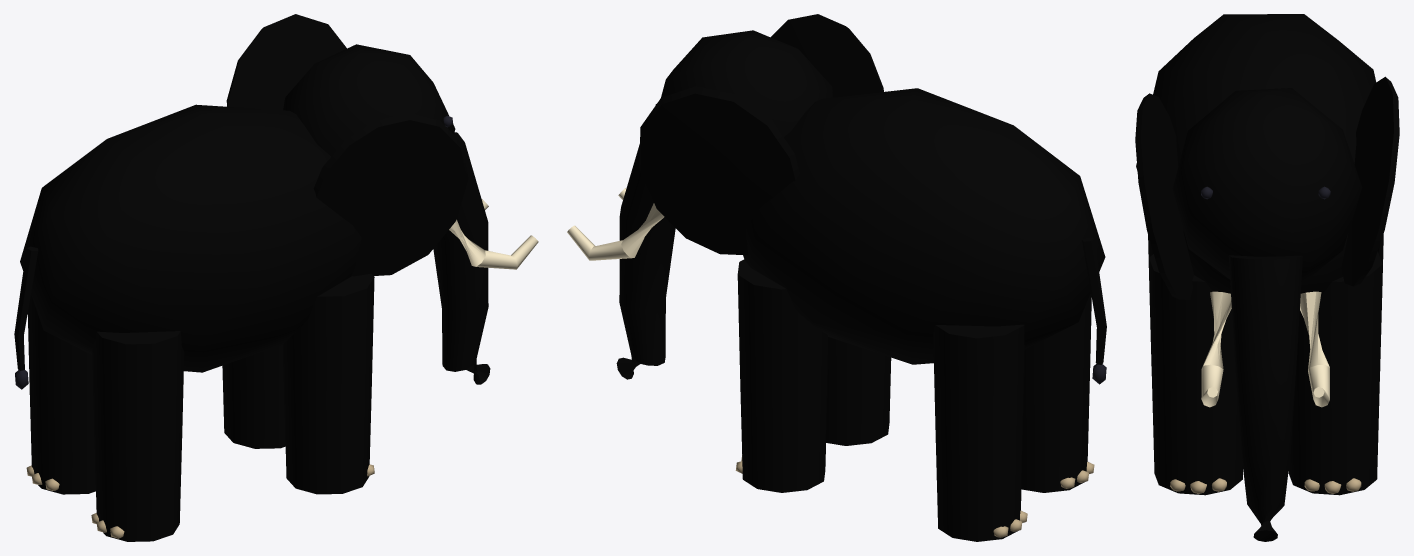
File: Elephant.fbx
3 renders of one model, left to right at view 1: azimuth 30°, elevation 25°; view 2: azimuth 150°, elevation 25°; view 3: azimuth 270°, elevation 25°, orthographic. The views are drawn at different scales.
Parts seen in each view (by area): view 1: Elephant; view 2: Elephant; view 3: Elephant.
Part boxes in pixels (x1,y1,x2,y2): Elephant: (14, 14, 538, 541); Elephant: (567, 14, 1106, 541); Elephant: (1135, 14, 1399, 541).
Bounding box in the file's own units: 4.43 × 3.29 × 1.89.
1 material, 1 textured.
